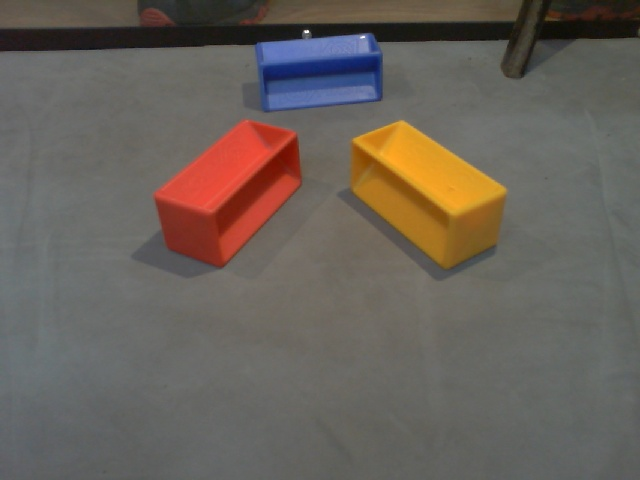BlueSample: (252, 30, 388, 116)
RedSample: (148, 114, 304, 273)
YellowSample: (342, 117, 507, 277)
